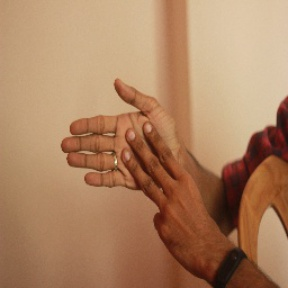M: (59, 76, 193, 218)
